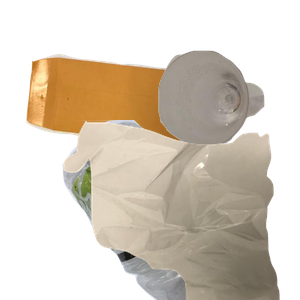glass: (156, 48, 300, 189)
paper: (23, 51, 206, 189)
plastic: (25, 120, 252, 300)
trash: (61, 120, 300, 300)
